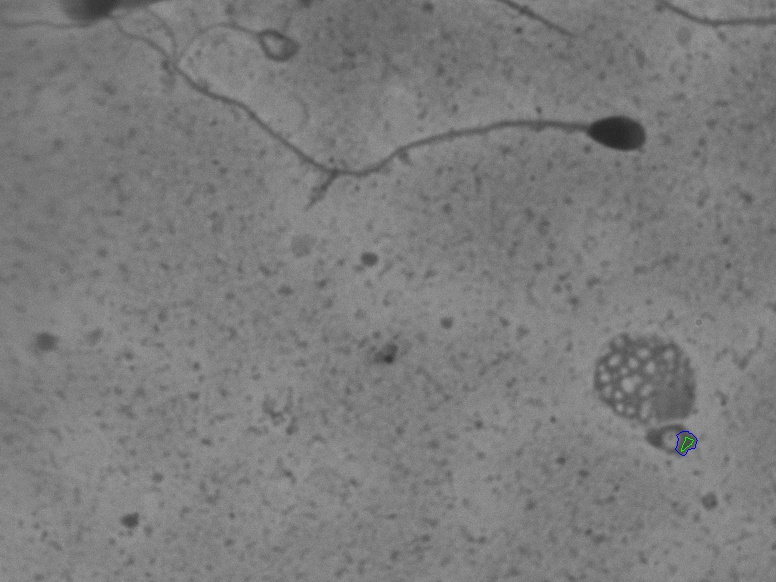Normal: (127, 23, 702, 243)
